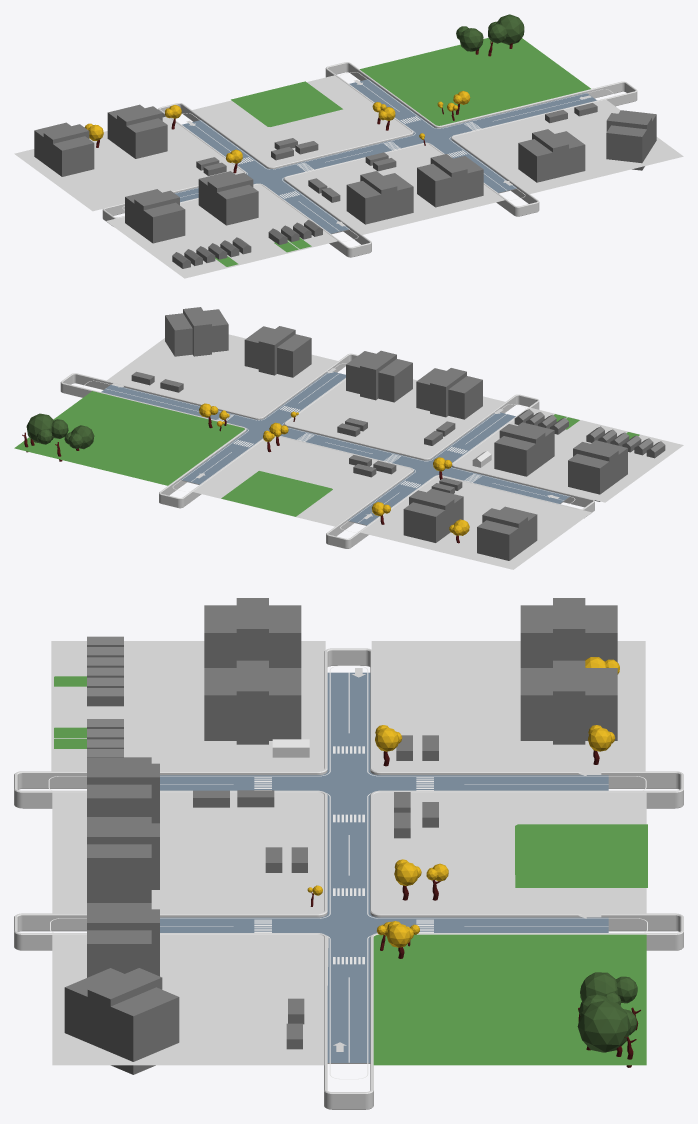
File: Mapas.fbx
3 renders of one model, top to bottom at view 1: azimuth 30°, elevation 25°; view 2: azimuth 150°, elevation 25°; view 3: azimuth 270°, elevation 25°, orthographic. The views are drawn at different scales.
Parts seen in each view (by area): view 1: Plane, Cube.018, Plane.002, pista, meio_fio, Plane.003, Detalhes, Icosphere.009, Icosphere.010; view 2: Plane, Cube.018, Plane.002, pista, meio_fio, Plane.003, Detalhes, Icosphere.009, Icosphere.010; view 3: Plane, Cube.018, Plane.002, pista, meio_fio, Plane.003, Detalhes, Icosphere.009, Icosphere.010.
Part boxes in pixels (x1,y1,x2,y2): Plane: (14, 75, 683, 278); Cube.018: (34, 103, 656, 268); Plane.002: (360, 38, 590, 125); pista: (175, 79, 596, 233); meio_fio: (102, 62, 637, 257); Plane.003: (231, 81, 342, 126); Detalhes: (122, 72, 615, 241); Icosphere.009: (488, 14, 524, 44); Icosphere.010: (456, 26, 483, 51); Plane: (107, 334, 683, 569); Cube.018: (131, 307, 665, 560); Plane.002: (14, 391, 244, 485); pista: (101, 371, 569, 525); meio_fio: (60, 353, 594, 548); Plane.003: (221, 471, 332, 516); Detalhes: (82, 363, 575, 532); Icosphere.009: (26, 413, 68, 444); Icosphere.010: (64, 425, 94, 449); Plane: (51, 641, 646, 1065); Cube.018: (64, 598, 617, 1074); Plane.002: (373, 934, 646, 1065); pista: (160, 672, 608, 1062); meio_fio: (14, 648, 683, 1109); Plane.003: (515, 824, 647, 887); Detalhes: (48, 665, 647, 1079); Icosphere.009: (577, 994, 637, 1052); Icosphere.010: (580, 972, 637, 1005).
Bounding box in the file's own units: 62.9 × 4.51 × 39.33.
